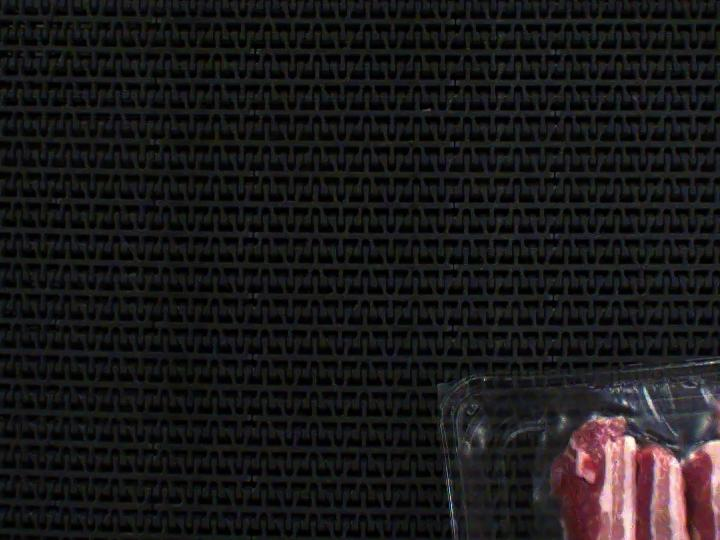unsealed: (495, 347, 720, 540)
